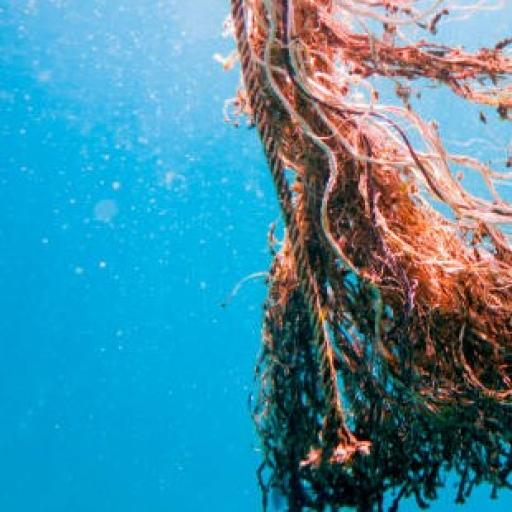net: (221, 6, 511, 512)
